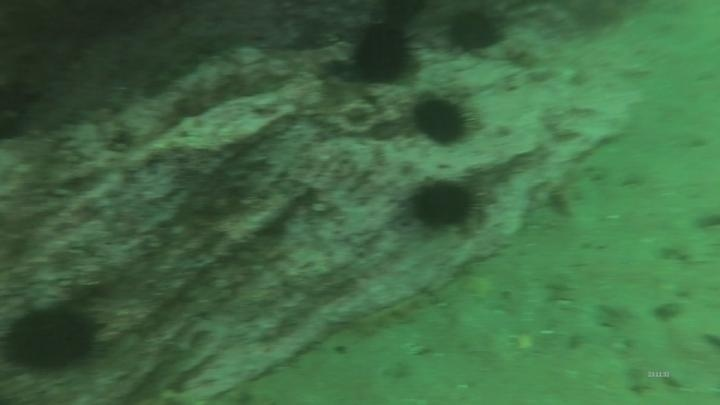echinus: (1, 300, 106, 377), (345, 19, 422, 89), (403, 174, 485, 236), (407, 90, 479, 151), (442, 6, 506, 57)
holothurian: (330, 288, 440, 340)
